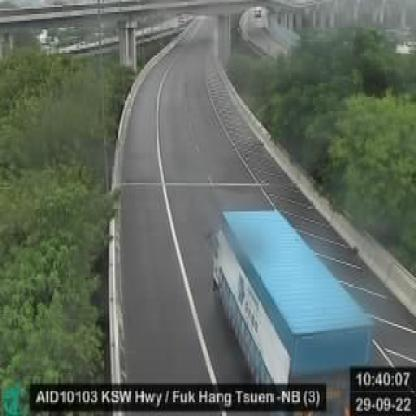Truck: (195, 199, 372, 404)
